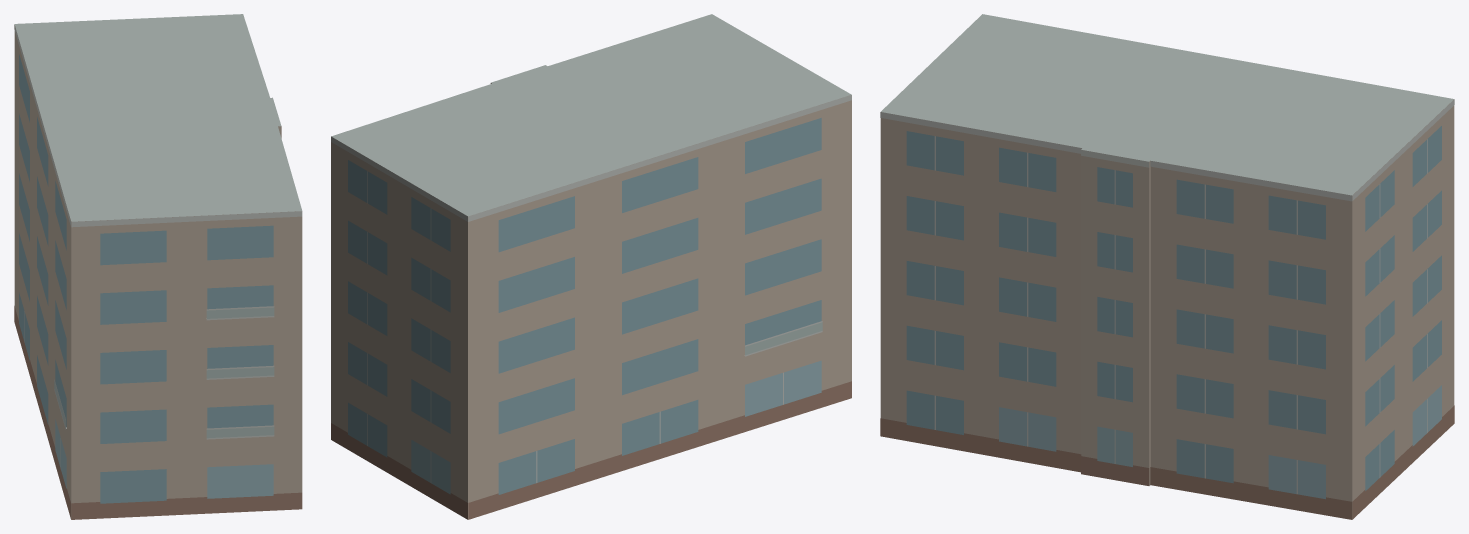
The model's file is survey-upis-33004066.glb.
The picture shows the model from 3 angles, left to right: view 1: azimuth 30°, elevation 25°; view 2: azimuth 150°, elevation 25°; view 3: azimuth 270°, elevation 25°; orthographic projection. The views are drawn at different scales.
Parts seen in each view (by area): view 1: survey-upis-33004066.tmp; view 2: survey-upis-33004066.tmp; view 3: survey-upis-33004066.tmp.
Part boxes in pixels (x1,y1,x2,y2): survey-upis-33004066.tmp: (14, 14, 302, 519); survey-upis-33004066.tmp: (331, 14, 851, 519); survey-upis-33004066.tmp: (880, 14, 1454, 519).
Size of the model in its own units: 15.97 by 13.3 by 21.34.
